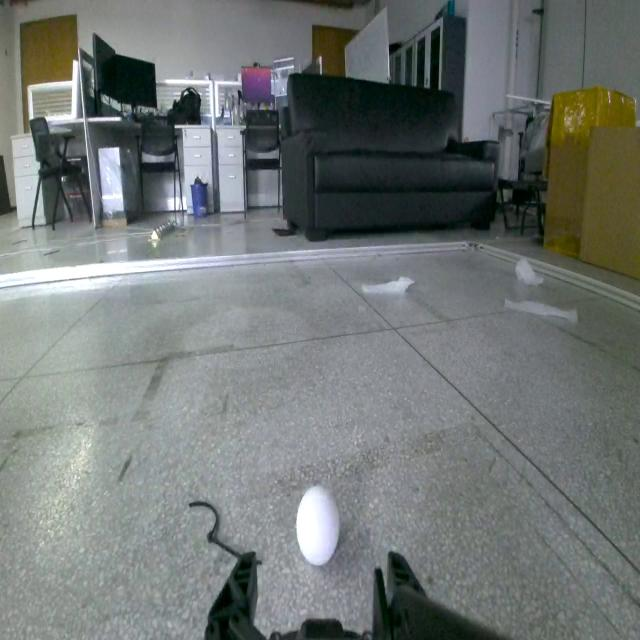ball1: (296, 484, 342, 570)
